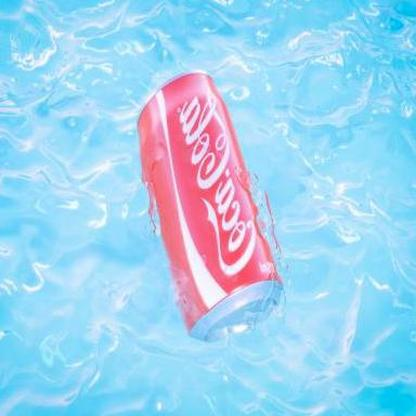can: (133, 69, 286, 342)
